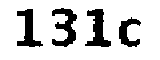1: (84, 9, 116, 55), (14, 7, 42, 52)
3: (48, 6, 79, 52)
c: (116, 15, 145, 51)
